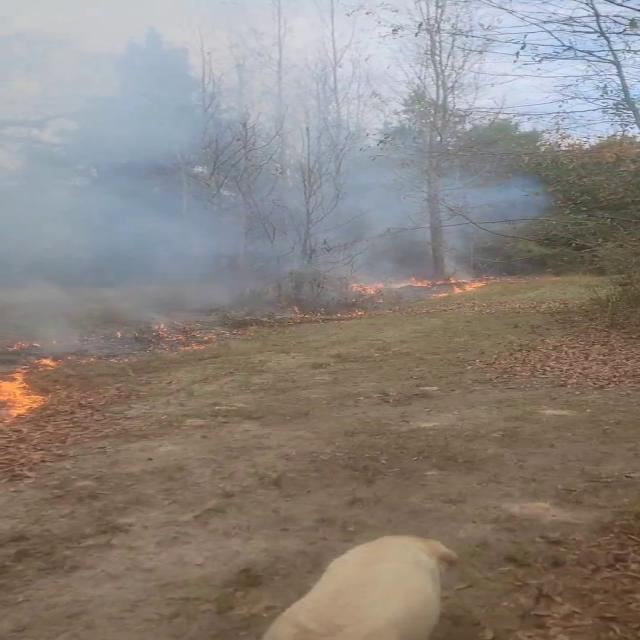Fire: (0, 349, 61, 426), (389, 270, 493, 294)
Smoke: (1, 0, 555, 352)
